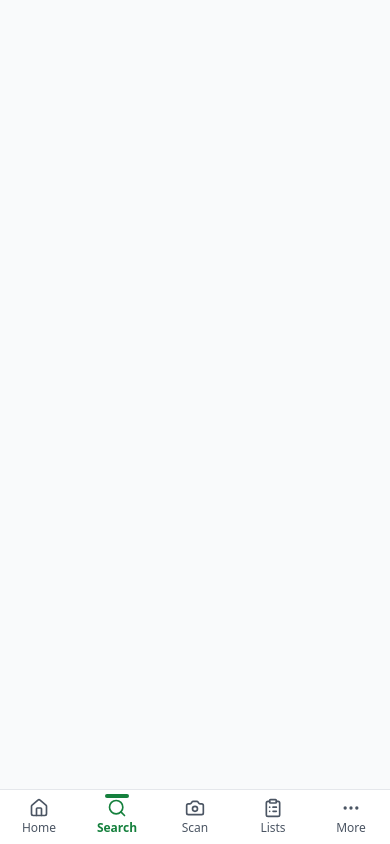
Test: Navigation › More button toggles drawer open/close
Click the button "More".
click(351, 817)  # box [312, 790, 389, 843]
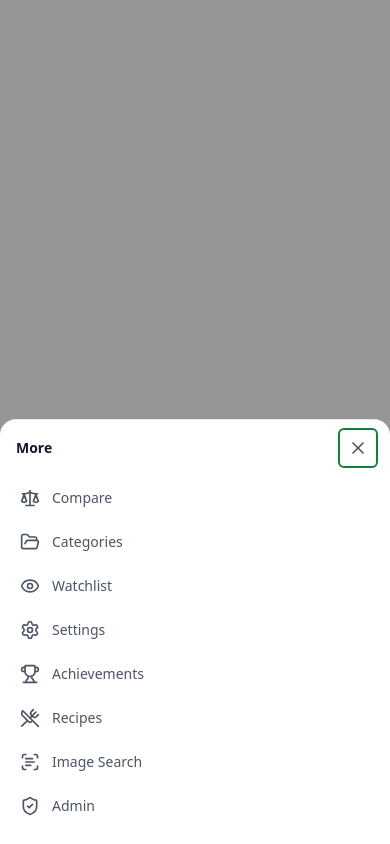
Check: the dialog is shown, box [0, 419, 389, 843]
